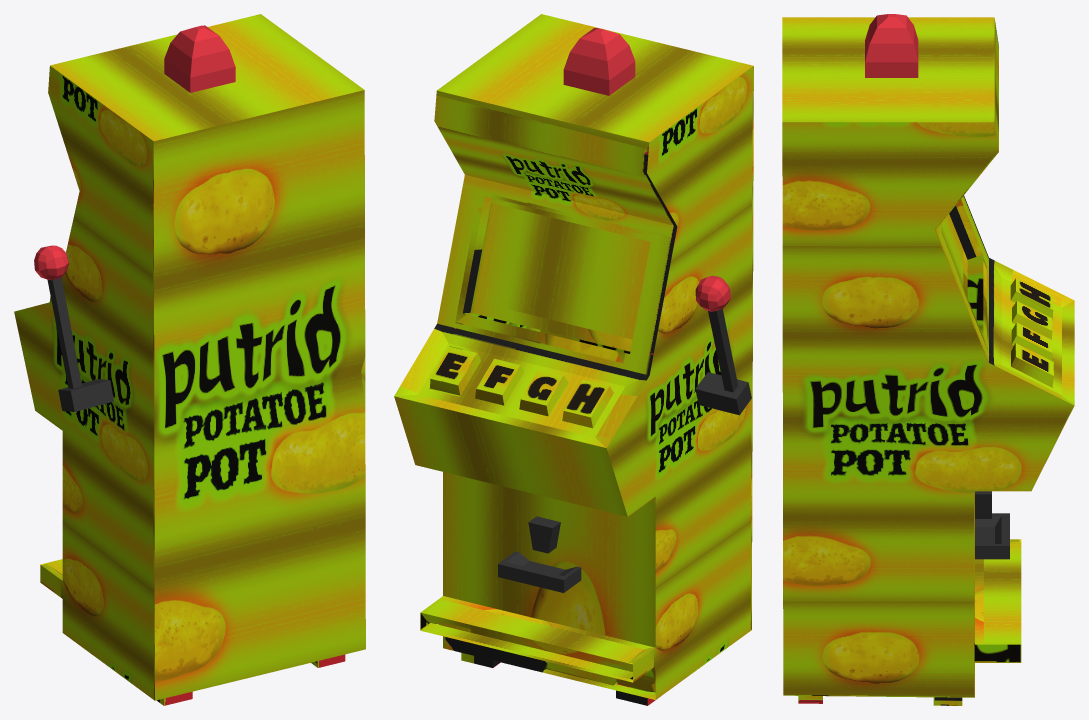
File: jackpot-arcade._300525.fbx
The picture shows the model from 3 angles, left to right: view 1: azimuth 30°, elevation 25°; view 2: azimuth 150°, elevation 25°; view 3: azimuth 270°, elevation 25°; orthographic projection. The views are drawn at different scales.
Parts seen in each view (by area): view 1: Cube, Sphere, Cube.003; view 2: Cube, Sphere, Cube.003, Cube.001, Cube.002; view 3: Cube, Cube.003, Cube.001, Cube.002.
Boxes of the visible parts, x1=… form: Cube: x1=14, y1=14, x2=365, y2=705; Sphere: x1=34, y1=245, x2=113, y2=411; Cube.003: x1=164, y1=25, x2=235, y2=92; Cube: x1=394, y1=14, x2=753, y2=705; Sphere: x1=695, y1=275, x2=751, y2=415; Cube.003: x1=563, y1=28, x2=635, y2=95; Cube.001: x1=498, y1=551, x2=581, y2=592; Cube.002: x1=528, y1=516, x2=560, y2=553; Cube: x1=782, y1=17, x2=1074, y2=705; Cube.003: x1=865, y1=14, x2=918, y2=77; Cube.001: x1=975, y1=513, x2=1009, y2=559; Cube.002: x1=975, y1=491, x2=991, y2=518.
Bounding box in the file's own units: 95.03 × 218 × 90.44.
